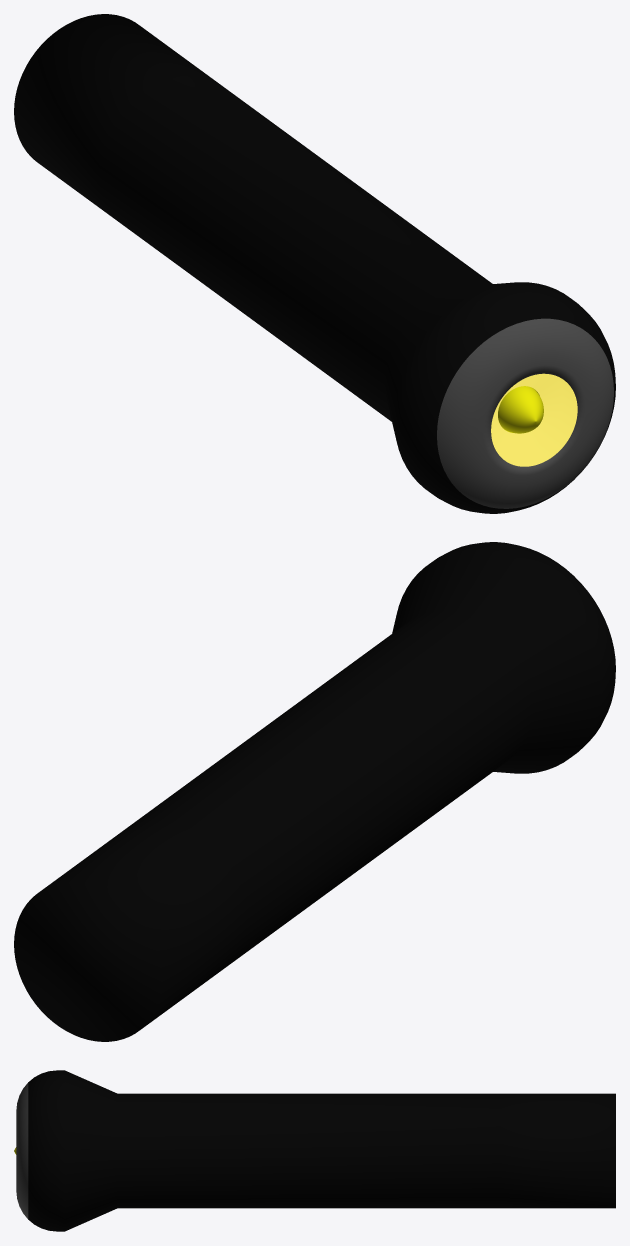
Rendered from midlight.glb.
3 renders of one model, top to bottom at view 1: azimuth 30°, elevation 25°; view 2: azimuth 150°, elevation 25°; view 3: azimuth 270°, elevation 25°, orthographic. The views are drawn at different scales.
Visible parts, largest first — view 1: Cylinder; view 2: Cylinder; view 3: Cylinder.
Part boxes in pixels (<box>): Cylinder: <box>14,14,615,513</box>; Cylinder: <box>14,542,615,1041</box>; Cylinder: <box>14,1070,615,1231</box>.
Bounding box in the file's own units: 4.67 × 4.67 × 17.44.
